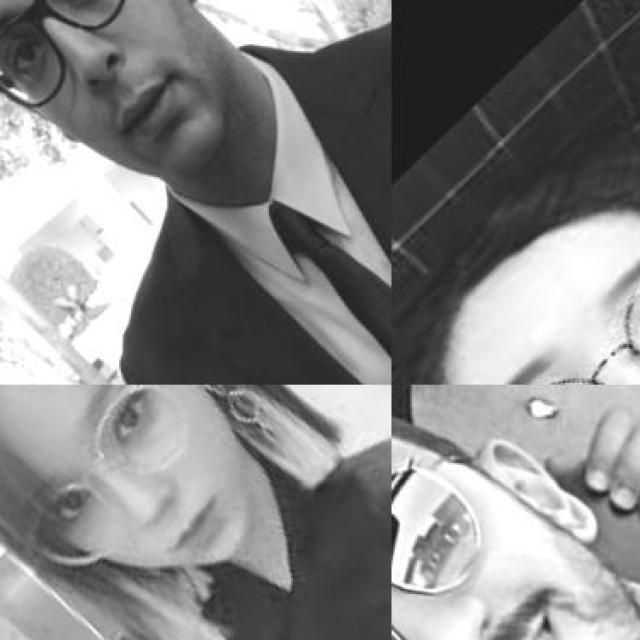Glasses: (0, 385, 276, 599), (434, 172, 640, 383), (392, 417, 580, 640), (0, 0, 208, 131)
